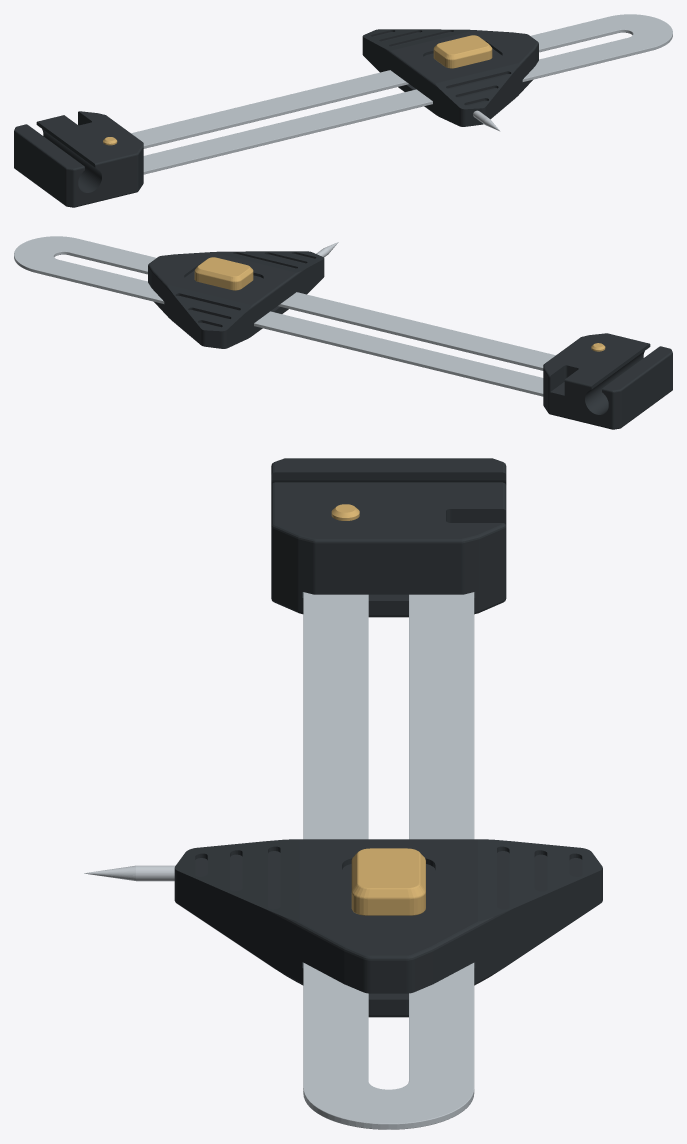
The picture shows the model from 3 angles, top to bottom: view 1: azimuth 30°, elevation 25°; view 2: azimuth 150°, elevation 25°; view 3: azimuth 270°, elevation 25°; orthographic projection. The views are drawn at different scales.
Visible parts, largest first — view 1: Slotted parallel rail stamping, Clipped wing sliding carrier, Open pencil end carrier, Oblong locking thumb knob; view 2: Slotted parallel rail stamping, Clipped wing sliding carrier, Open pencil end carrier, Oblong locking thumb knob; view 3: Slotted parallel rail stamping, Clipped wing sliding carrier, Open pencil end carrier, Oblong locking thumb knob, Extended compass marking pin.
Part boxes in pixels (x1,y1,x2,y2): Slotted parallel rail stamping: (131,14,672,174); Clipped wing sliding carrier: (362,29,538,126); Open pencil end carrier: (14,111,143,207); Oblong locking thumb knob: (433,35,492,68); Slotted parallel rail stamping: (14,236,555,396); Clipped wing sliding carrier: (148,251,324,348); Open pencil end carrier: (543,333,672,429); Oblong locking thumb knob: (194,257,253,290); Slotted parallel rail stamping: (303,592,474,1129); Clipped wing sliding carrier: (174,839,602,1017); Open pencil end carrier: (271,458,506,617); Oblong locking thumb knob: (351,848,425,915); Extended compass marking pin: (84,865,175,881).
Size of the model in its own units: 0.195 by 0.0146 by 0.0698.
